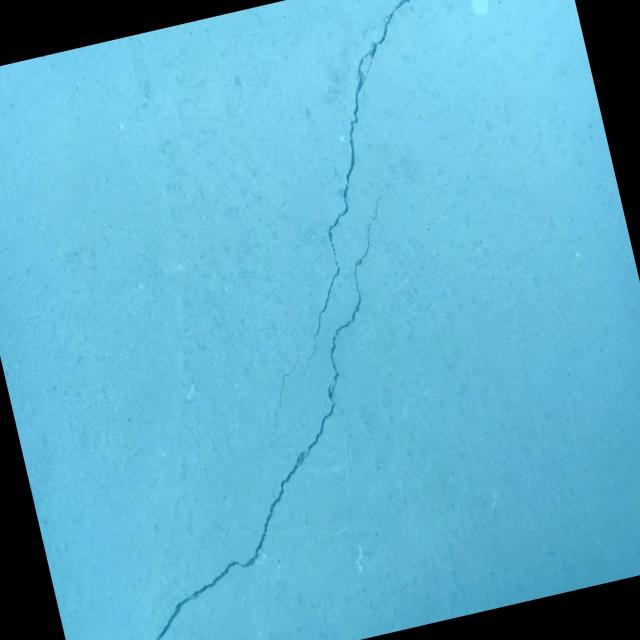crack: (45, 183, 484, 640), (216, 0, 524, 377), (257, 356, 314, 433)
